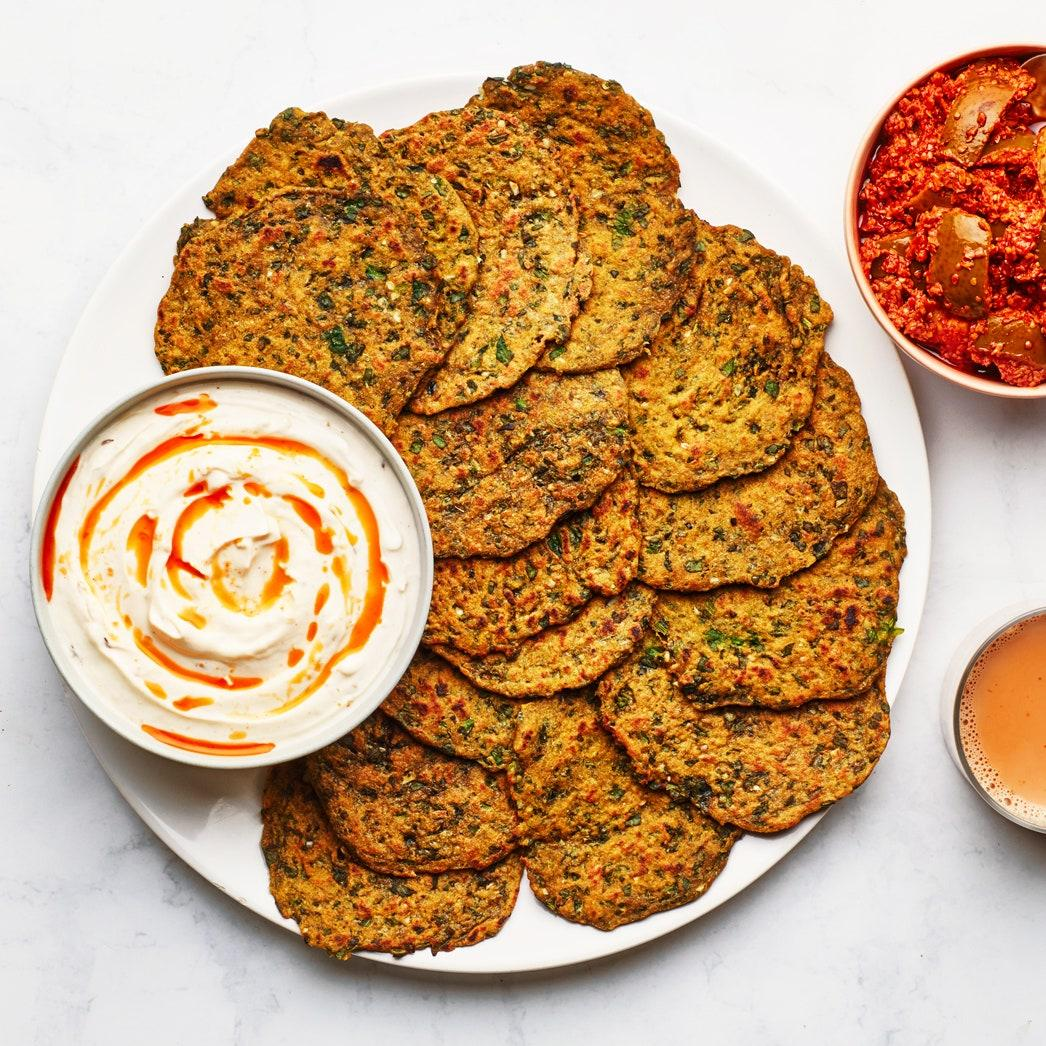thepla: (354, 86, 877, 897)
yogurt: (71, 401, 370, 712)
